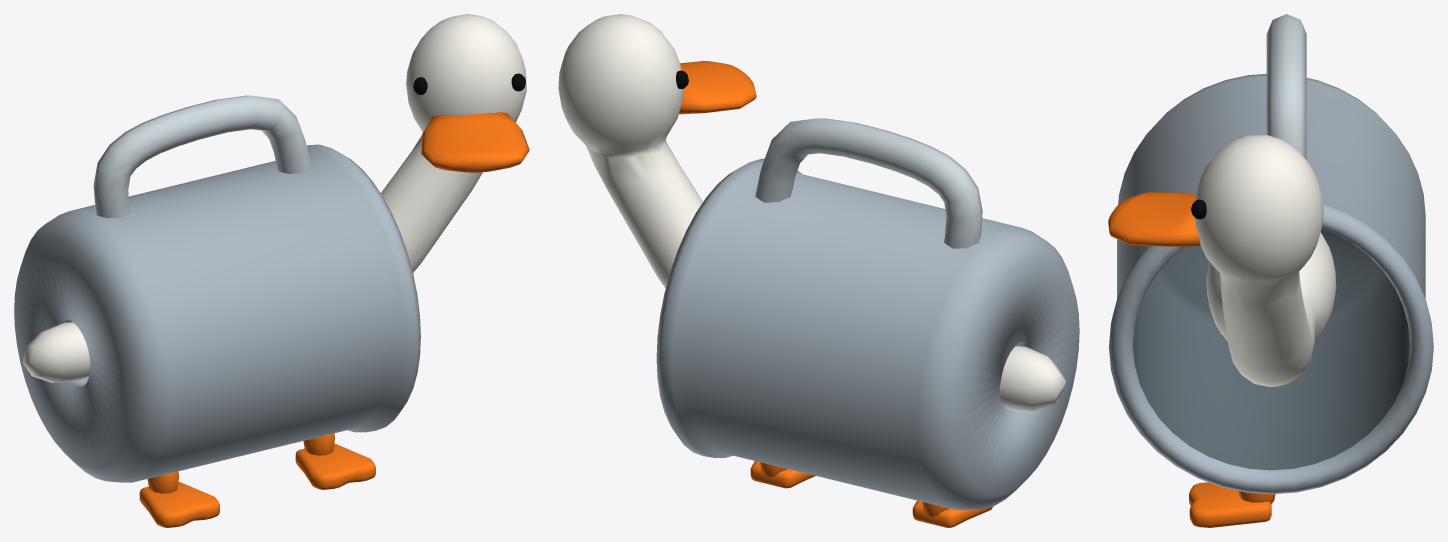
Rendered from duck-steelcup.glb.
3 renders of one model, left to right at view 1: azimuth 30°, elevation 25°; view 2: azimuth 150°, elevation 25°; view 3: azimuth 270°, elevation 25°, orthographic. The views are drawn at different scales.
Visible parts, largest first — view 1: duck-steelcup; view 2: duck-steelcup; view 3: duck-steelcup.
Part boxes in pixels (bbox=[...]): duck-steelcup: bbox=[14, 14, 529, 527]; duck-steelcup: bbox=[558, 14, 1079, 527]; duck-steelcup: bbox=[1108, 14, 1433, 527].
Size of the model in its own units: 1 by 0.8096 by 0.5266.
1 material, 1 textured.
